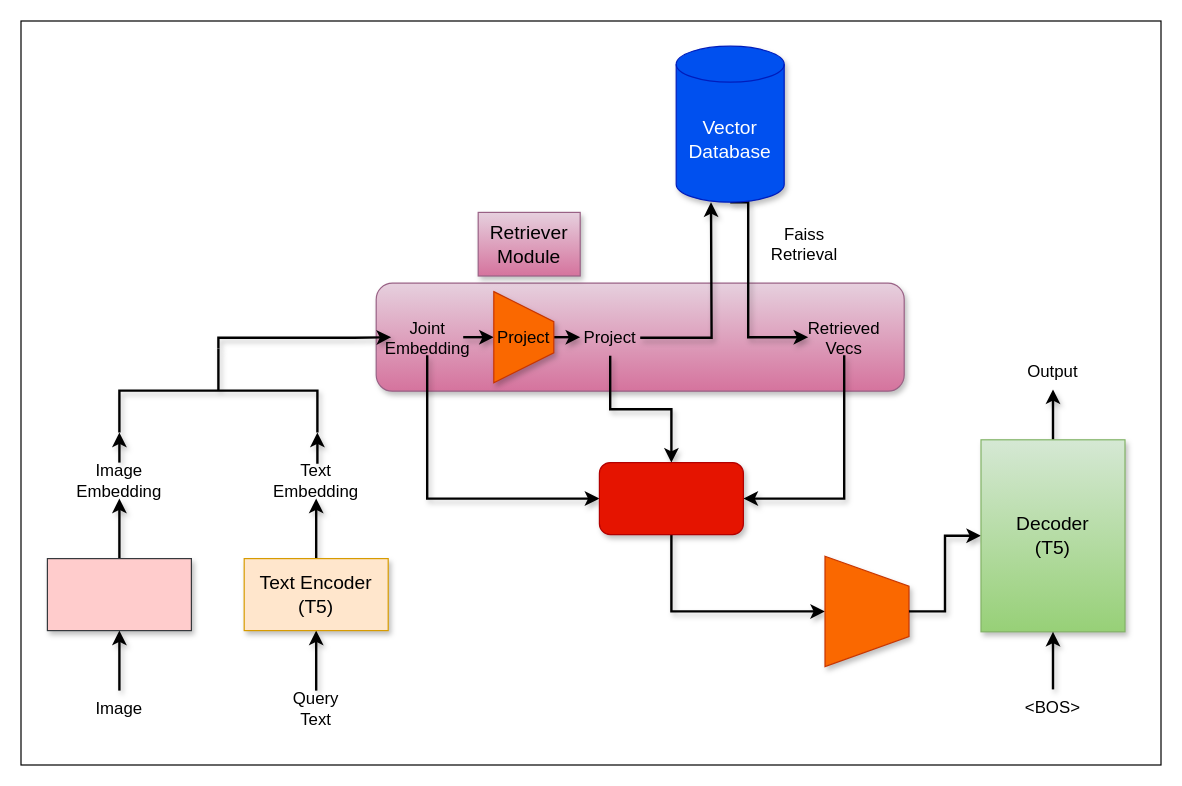
This 1182x786 diagram has some shape labels left out. The centre of each missing label's shape, as x and y in pixels:
Fusion Module: the point at 672,500
Image Encoder (ViT): the point at 120,596
Projection: the point at 867,612
